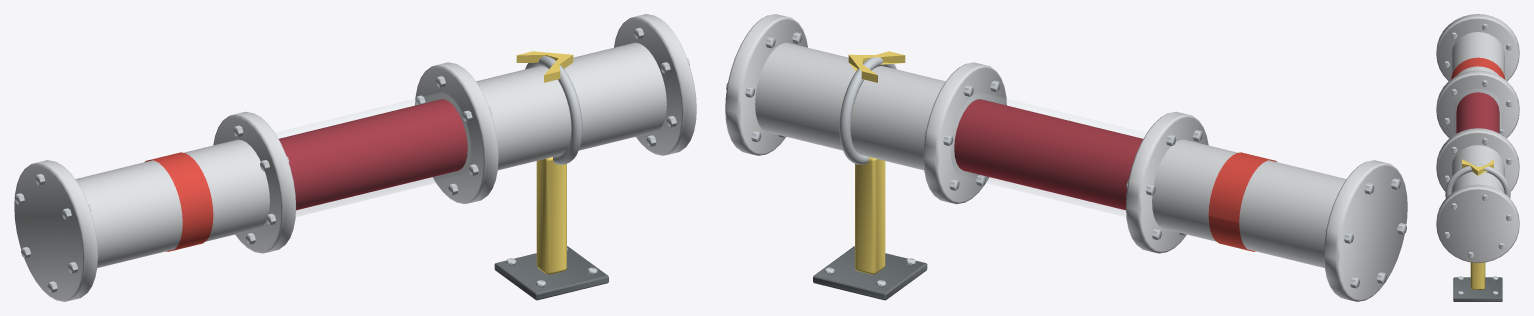
File: tuberia_recta.glb
The picture shows the model from 3 angles, left to right: view 1: azimuth 30°, elevation 25°; view 2: azimuth 150°, elevation 25°; view 3: azimuth 270°, elevation 25°; orthographic projection. The views are drawn at different scales.
Visible parts, largest first — view 1: mirilla, tubo1, tubo-1, sangre, brida_ext-1, brida_mir1, brida_ext1, brida_mir-1, pie_poste, banda_roja, pie_placa, pie_abrazadera (+1 smaller); view 2: mirilla, tubo1, tubo-1, sangre, brida_ext-1, brida_mir1, brida_ext1, brida_mir-1, pie_poste, banda_roja, pie_placa, pie_abrazadera (+1 smaller); view 3: brida_ext1, brida_mir-1, brida_ext-1, brida_mir1, mirilla, tubo-1, tubo1, sangre, pie_placa, pie_abrazadera, banda_roja, pie_poste (+1 smaller).
Boxes of the visible parts, <box> form: mirilla: <box>276,93,470,216</box>; tubo1: <box>476,42,666,170</box>; tubo-1: <box>75,139,269,267</box>; sangre: <box>279,99,467,210</box>; brida_ext-1: <box>14,160,97,301</box>; brida_mir1: <box>415,62,498,204</box>; brida_ext1: <box>614,14,696,155</box>; brida_mir-1: <box>213,111,295,253</box>; pie_poste: <box>536,157,566,274</box>; banda_roja: <box>144,152,213,251</box>; pie_placa: <box>494,246,608,300</box>; pie_abrazadera: <box>525,56,582,164</box>; mirilla: <box>951,93,1145,216</box>; tubo1: <box>755,42,945,170</box>; tubo-1: <box>1152,139,1346,267</box>; sangre: <box>954,99,1142,210</box>; brida_ext-1: <box>1324,160,1407,301</box>; brida_mir1: <box>923,62,1006,204</box>; brida_ext1: <box>725,14,807,155</box>; brida_mir-1: <box>1126,111,1208,253</box>; pie_poste: <box>855,157,885,274</box>; banda_roja: <box>1208,152,1277,251</box>; pie_placa: <box>813,246,927,300</box>; pie_abrazadera: <box>839,57,896,164</box>; brida_ext1: <box>1436,184,1519,262</box>; brida_mir-1: <box>1436,70,1519,138</box>; brida_ext-1: <box>1436,14,1519,81</box>; brida_mir1: <box>1436,128,1519,191</box>; mirilla: <box>1453,89,1502,134</box>; tubo-1: <box>1451,32,1504,76</box>; tubo1: <box>1451,145,1504,193</box>; sangre: <box>1456,92,1499,133</box>; pie_placa: <box>1453,277,1502,301</box>; pie_abrazadera: <box>1445,164,1510,198</box>; banda_roja: <box>1450,57,1505,79</box>; pie_poste: <box>1470,262,1485,289</box>.
Size of the model in its own units: 1.02 by 0.3607 by 0.2015.
